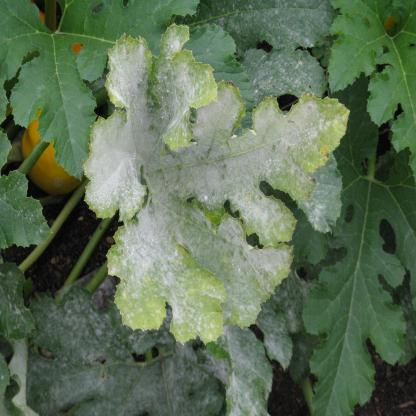squash powdery mildew leaf: (74, 16, 347, 340)
